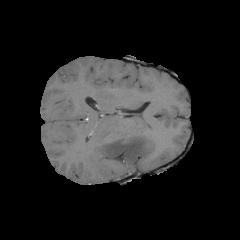glioma: (96, 113, 152, 169)
